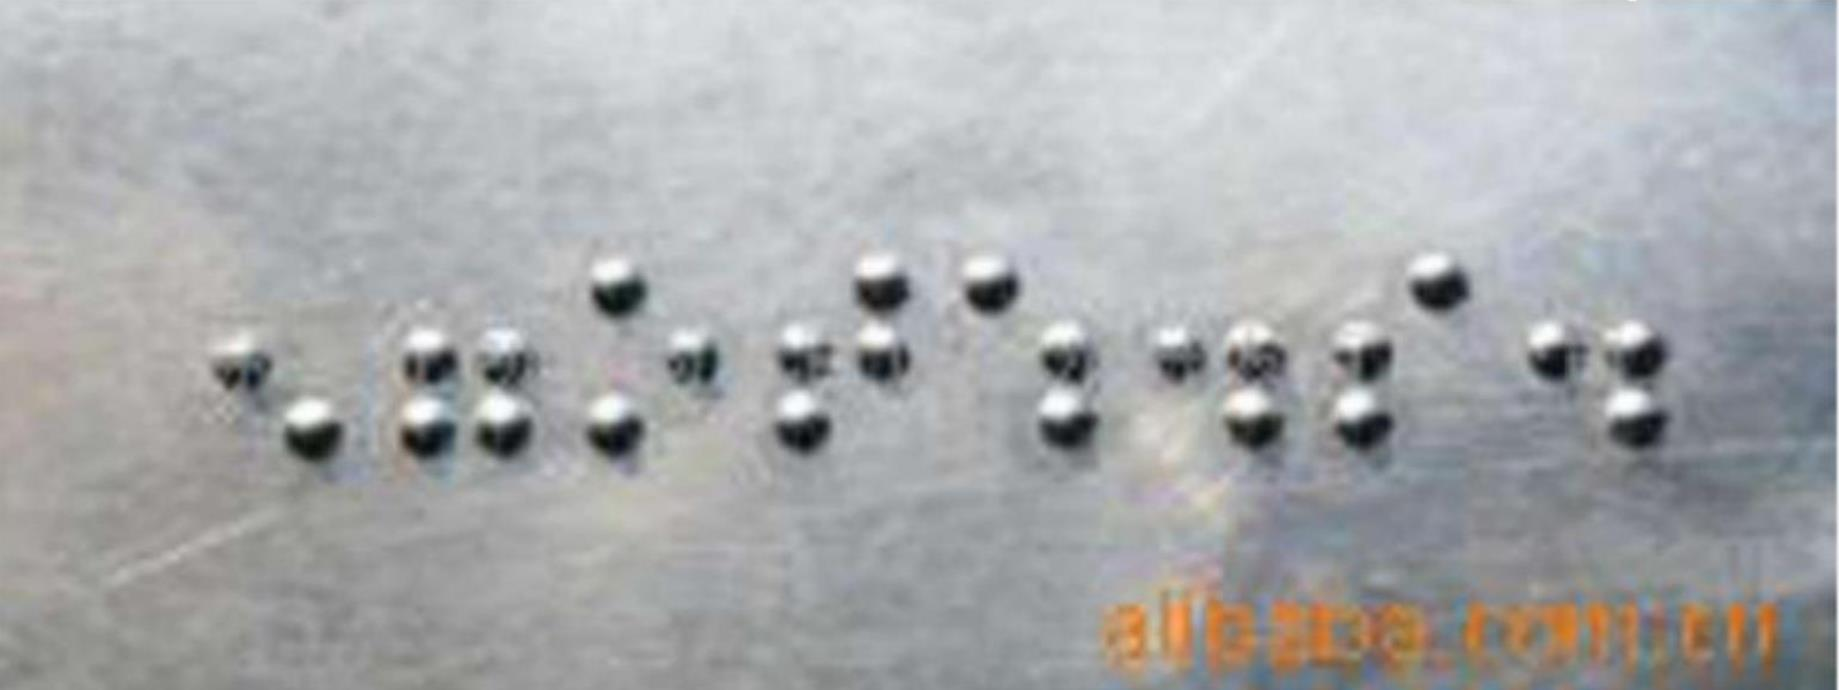Braille: (202, 244, 347, 465), (396, 250, 540, 466), (1520, 253, 1672, 455), (776, 253, 917, 464), (1329, 250, 1472, 456), (957, 253, 1102, 456), (584, 253, 722, 464), (1148, 253, 1289, 460)
